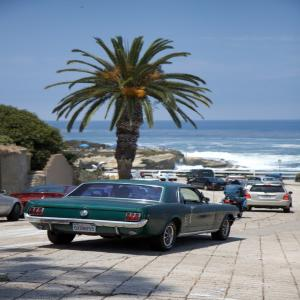Vehicle-registration-plate: (73, 224, 97, 234)
